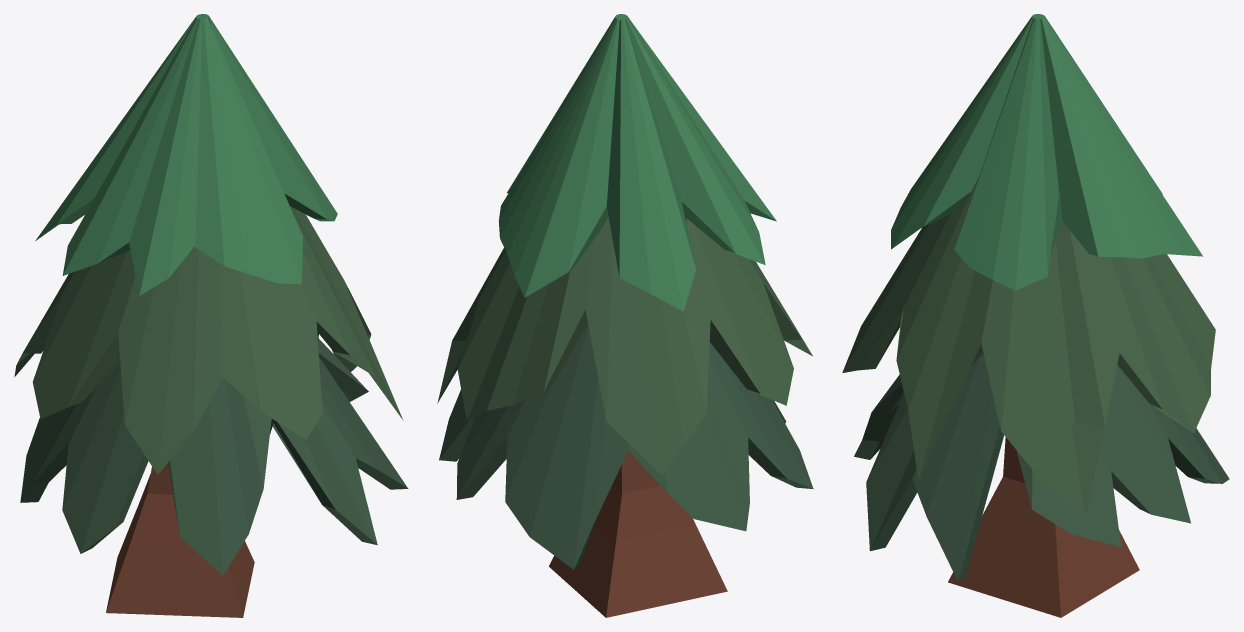
Rendered from arvore1.fbx.
The picture shows the model from 3 angles, left to right: view 1: azimuth 30°, elevation 25°; view 2: azimuth 150°, elevation 25°; view 3: azimuth 270°, elevation 25°; orthographic projection. The views are drawn at different scales.
Parts seen in each view (by area): view 1: Arvore1; view 2: Arvore1; view 3: Arvore1.
Part boxes in pixels (box(x1,y1,x2,y2)): Arvore1: box(14, 14, 408, 617); Arvore1: box(437, 14, 813, 617); Arvore1: box(842, 14, 1229, 617).
Size of the model in its own units: 1290 by 2120 by 1304.
